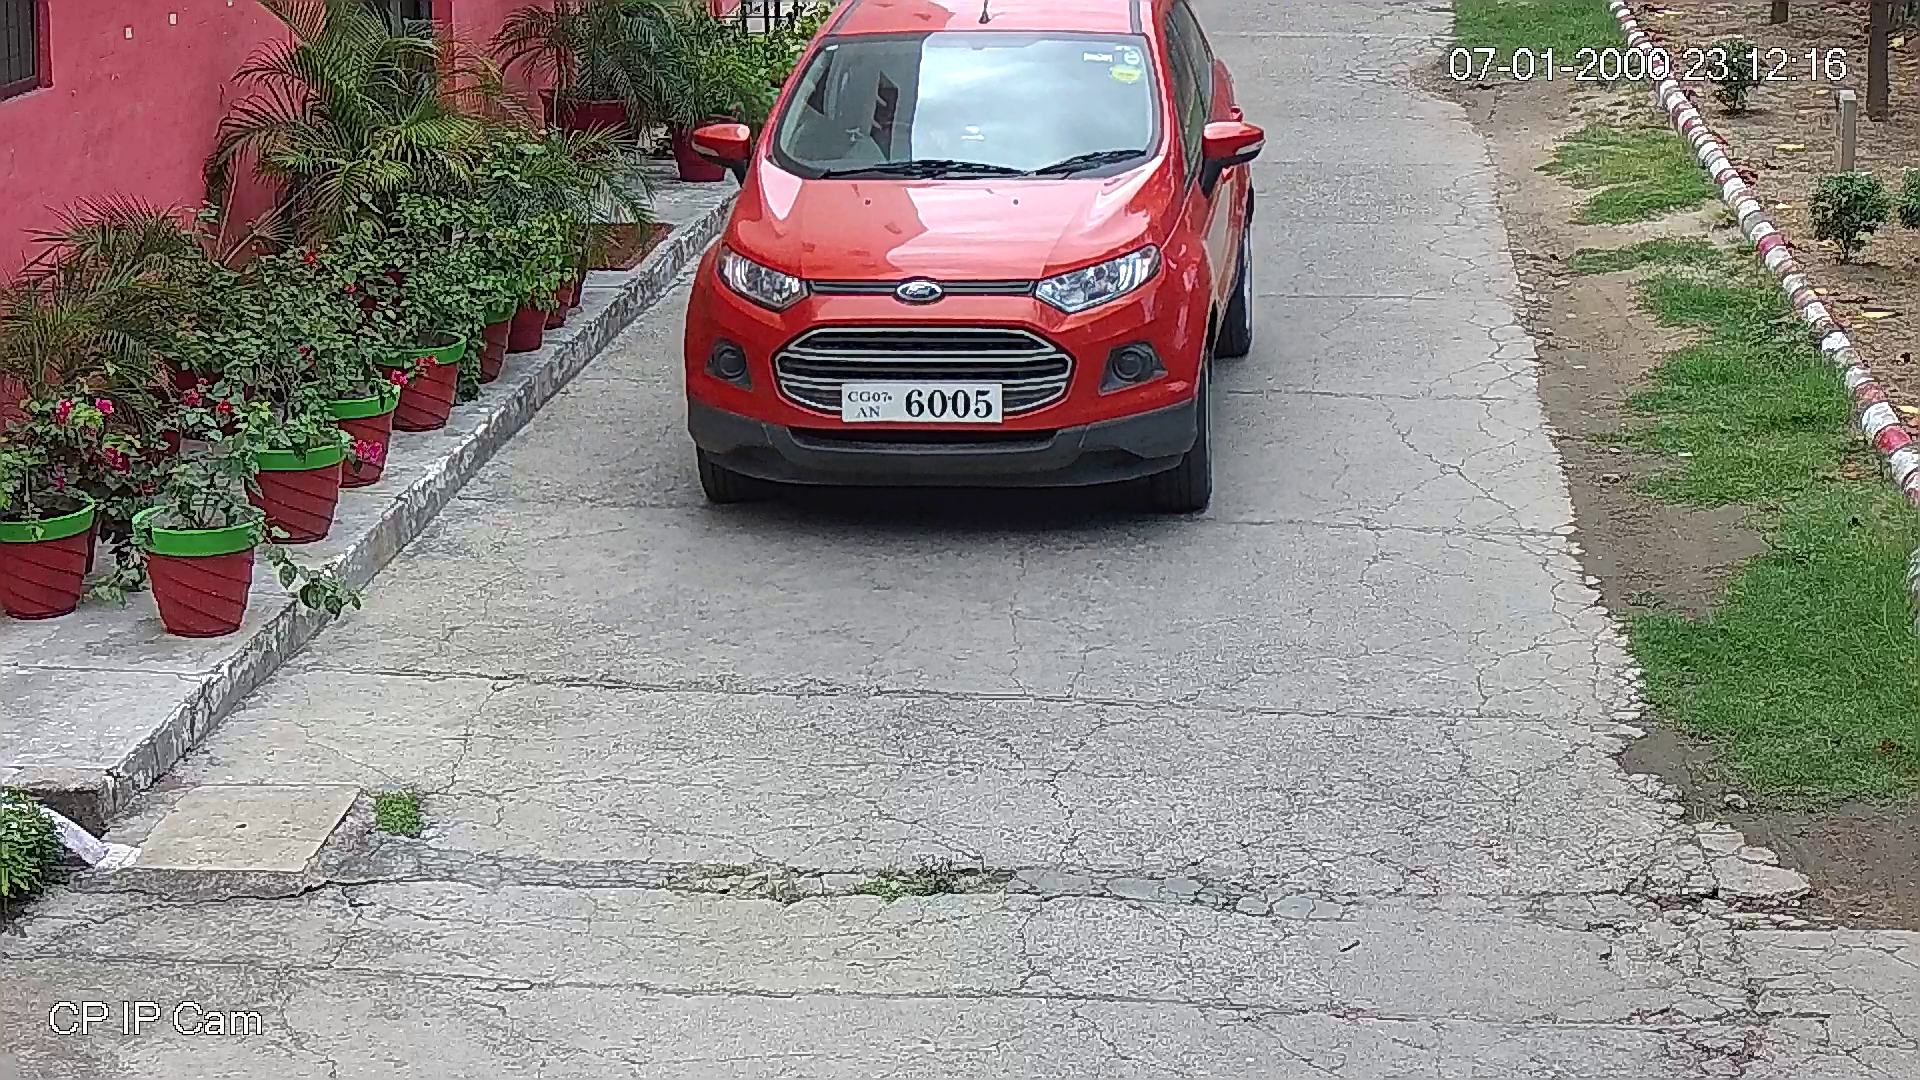plate: (845, 383, 1002, 423)
